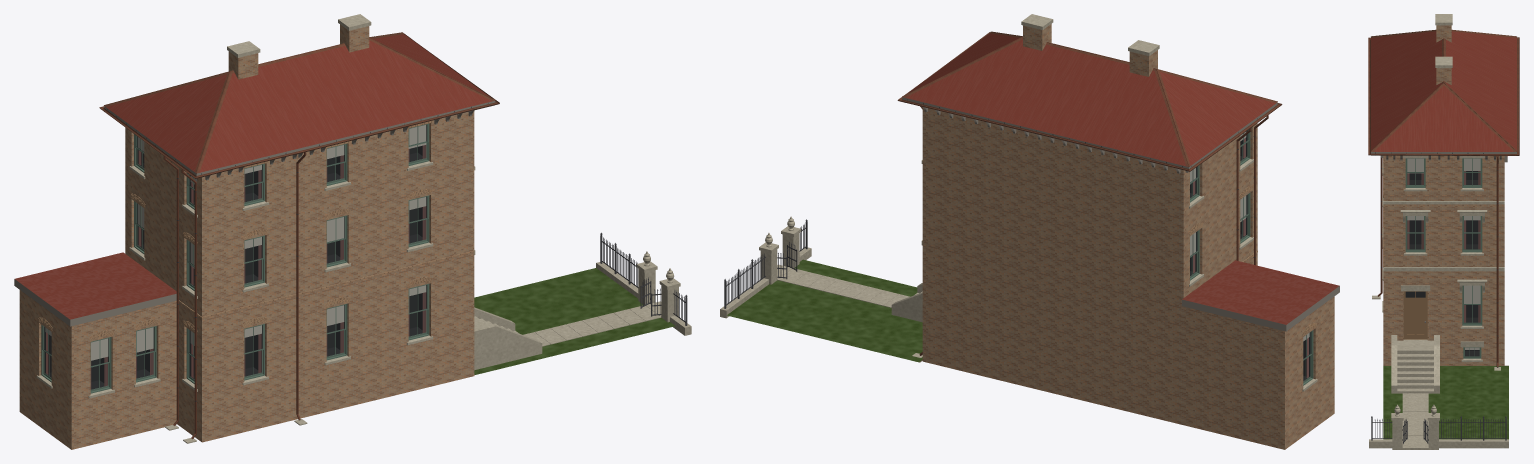
The model's file is house_1628_prairie__as_mapped_1904.glb.
3 renders of one model, left to right at view 1: azimuth 30°, elevation 25°; view 2: azimuth 150°, elevation 25°; view 3: azimuth 270°, elevation 25°, orthographic. The views are drawn at different scales.
Visible parts, largest first — view 1: house_1628_prairie__as_mapped_1904; view 2: house_1628_prairie__as_mapped_1904; view 3: house_1628_prairie__as_mapped_1904.
Boxes of the visible parts, left/top/right/bottom form: house_1628_prairie__as_mapped_1904: left=14, top=14, right=691, bottom=449; house_1628_prairie__as_mapped_1904: left=720, top=14, right=1339, bottom=449; house_1628_prairie__as_mapped_1904: left=1368, top=14, right=1519, bottom=449.
Size of the model in its own units: 26.84 by 15.08 by 7.49.
Materials: 21 (11 with a texture image).
